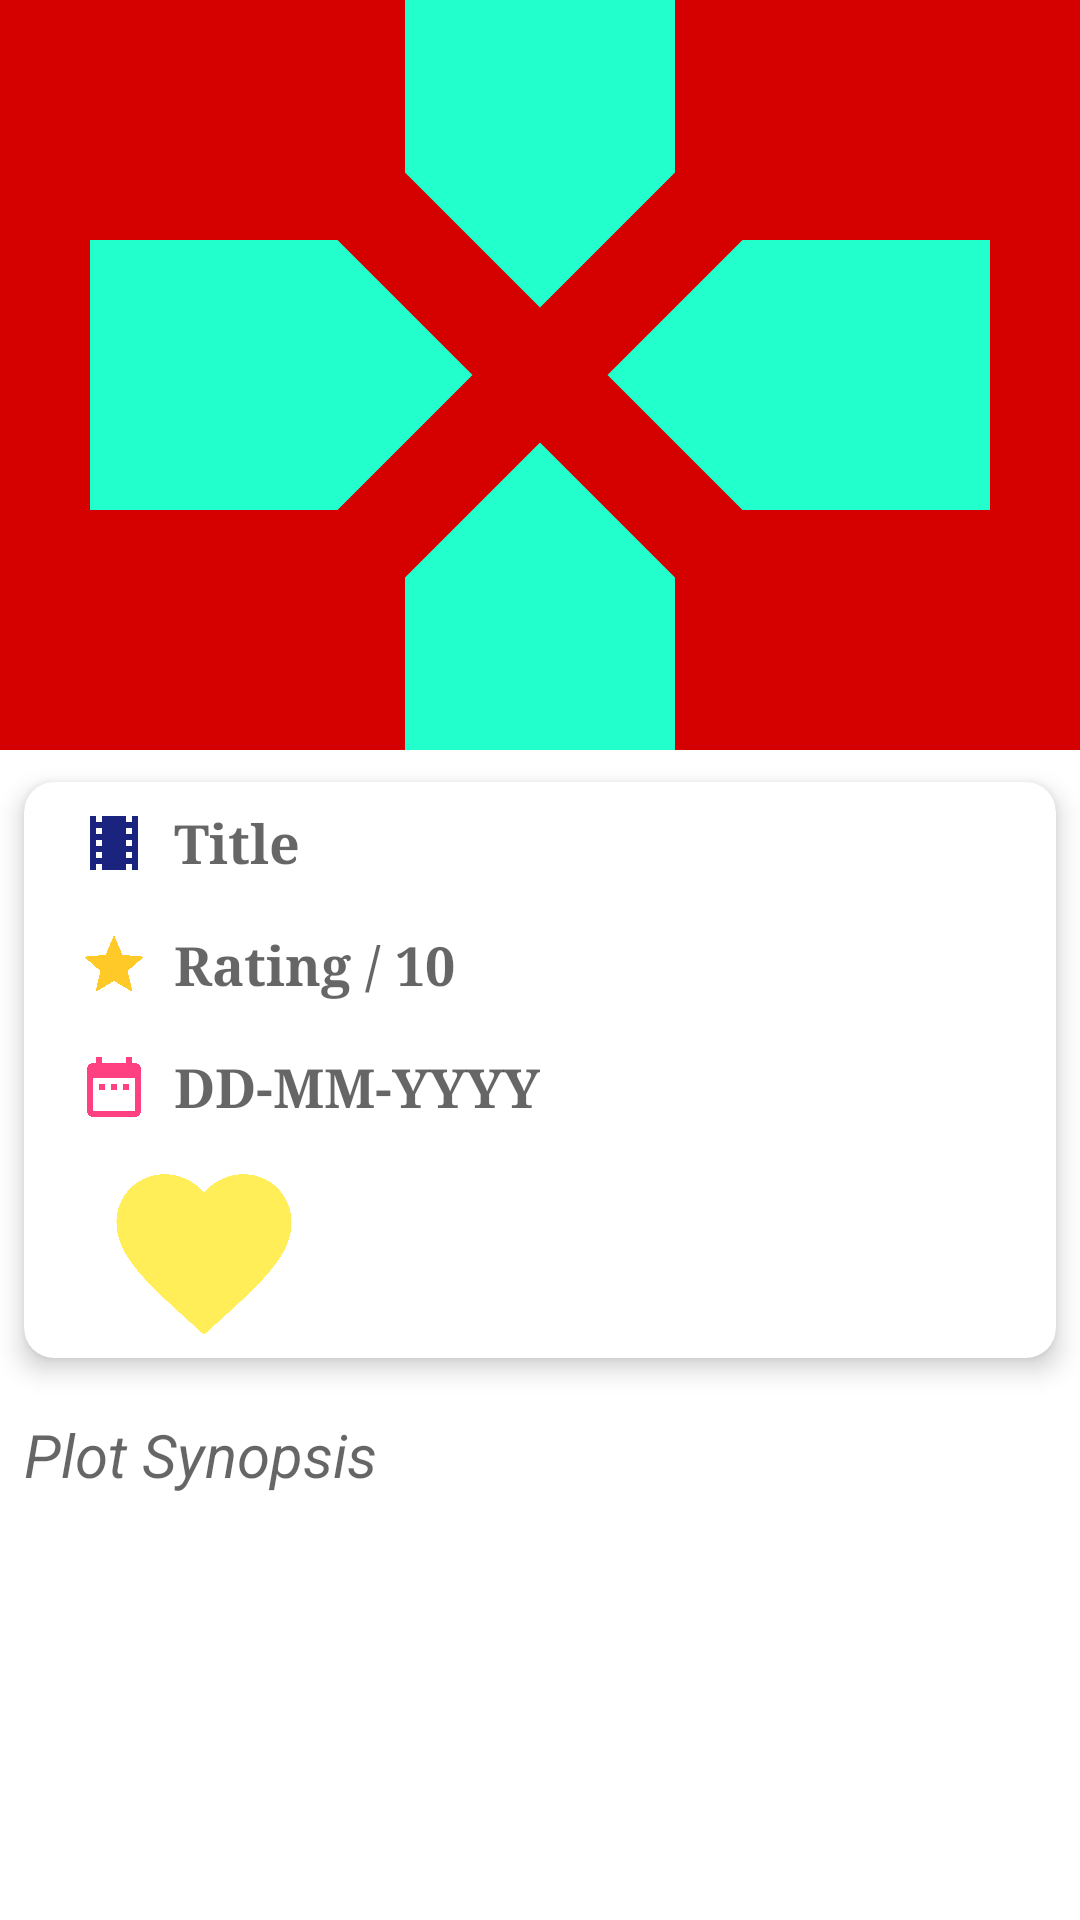

Screen size 1080 × 1920. Icon name, then its box in pixels as Rect(x1, y1, x2, y2):
favorite: Rect(116, 1174, 292, 1334)
